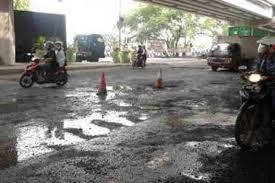Pothole: (0, 105, 166, 160), (162, 136, 257, 175), (16, 74, 109, 109), (168, 96, 254, 128), (128, 73, 152, 104), (170, 61, 207, 75), (208, 78, 228, 89)
